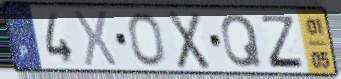4: (44, 11, 76, 66)
O: (126, 11, 167, 68)
Q: (219, 12, 265, 70)
X: (72, 9, 120, 70), (166, 9, 212, 72)
Z: (259, 13, 306, 70)
